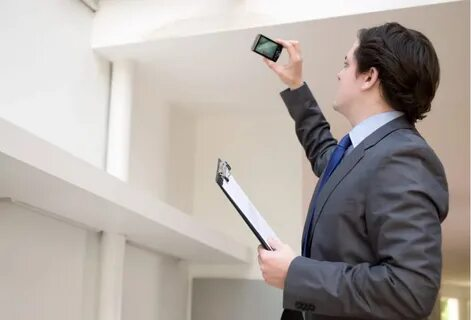awake: (257, 23, 449, 320)
